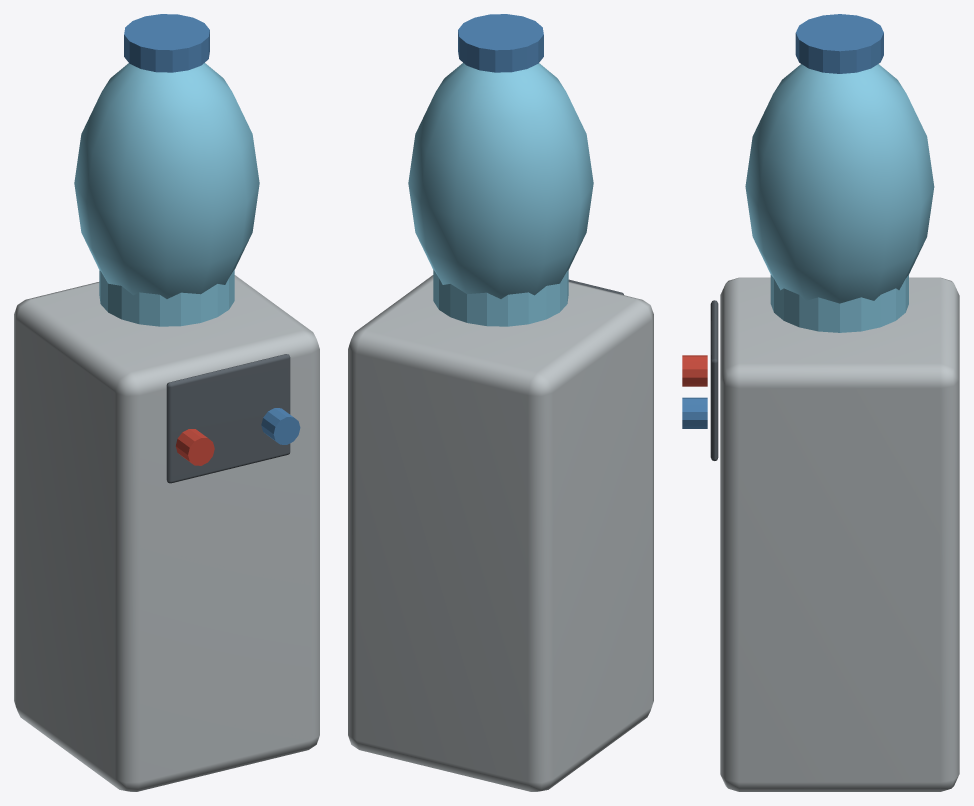
Rendered from water_dispenser_silver.glb.
3 views of the same model, side by side, from view 1: azimuth 30°, elevation 25°; view 2: azimuth 150°, elevation 25°; view 3: azimuth 270°, elevation 25° (orthographic).
Parts seen in each view (by area): view 1: water dispenser, water bottle, cup recess, bottle cap, bottle neck, hot cold tap, hot cold tap.001; view 2: water dispenser, water bottle, bottle cap, bottle neck; view 3: water dispenser, water bottle, bottle cap, bottle neck, cup recess, hot cold tap, hot cold tap.001.
Part boxes in pixels (box(x1,y1,x2,y2)): water dispenser: box(14, 275, 319, 791); water bottle: box(74, 63, 259, 298); cup recess: box(166, 354, 290, 483); bottle cap: box(124, 14, 209, 72); bottle neck: box(99, 269, 234, 326); hot cold tap: box(175, 429, 214, 465); hot cold tap.001: box(261, 408, 300, 444); water dispenser: box(348, 275, 653, 791); water bottle: box(408, 63, 593, 298); bottle cap: box(458, 14, 543, 72); bottle neck: box(433, 269, 568, 326); water dispenser: box(720, 277, 959, 791); water bottle: box(745, 64, 934, 303); bottle cap: box(795, 14, 883, 73); bottle neck: box(770, 275, 908, 332); cup recess: box(710, 300, 718, 460); hot cold tap: box(682, 355, 707, 386); hot cold tap.001: box(682, 397, 707, 428).
Bounding box in the file's own units: 0.38 × 1.25 × 0.44.
